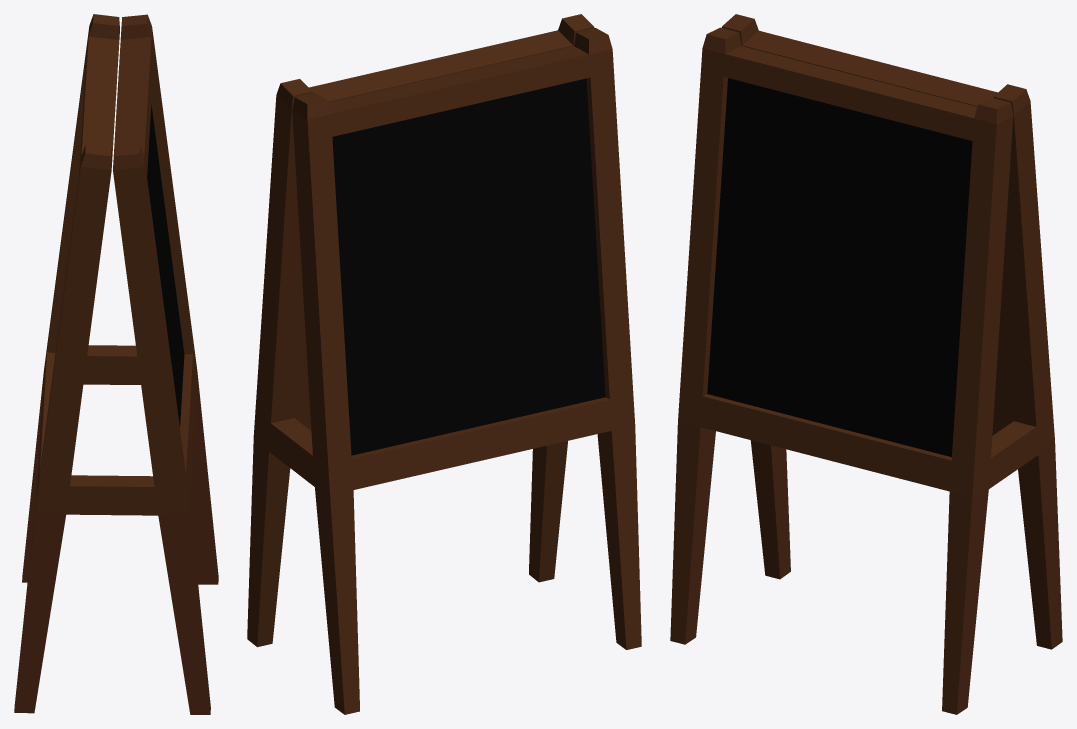
The model's file is krijtbord.fbx.
3 renders of one model, left to right at view 1: azimuth 30°, elevation 25°; view 2: azimuth 150°, elevation 25°; view 3: azimuth 270°, elevation 25°, orthographic. The views are drawn at different scales.
Parts seen in each view (by area): view 1: Krijtbord; view 2: Krijtbord; view 3: Krijtbord.
Boxes of the visible parts, x1,y1,x2,y2 form: Krijtbord: (14, 14, 218, 714); Krijtbord: (247, 14, 641, 714); Krijtbord: (670, 14, 1062, 714).
Size of the model in its own units: 54.44 by 100 by 61.33.
